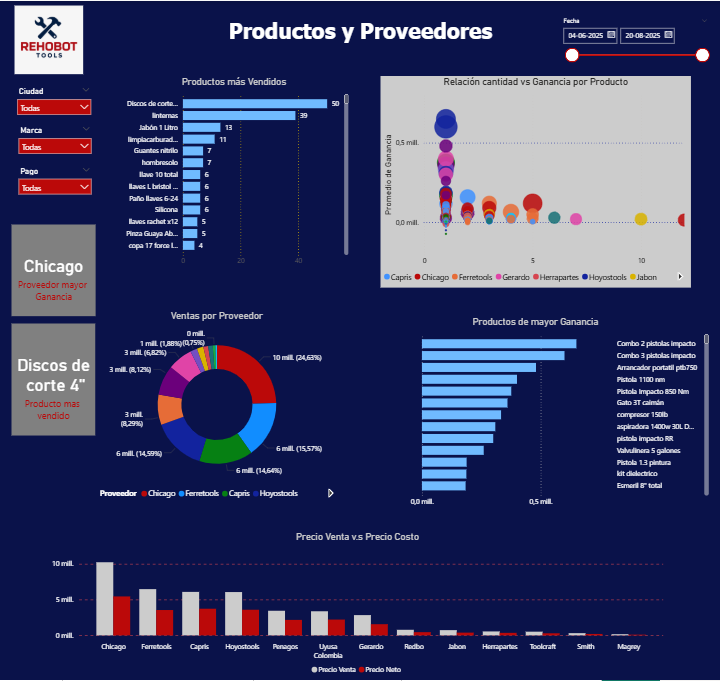

This screenshot's page, from the dashboard's own definition file:
{"tool":"powerbi","page":{"name":"Productos y proveedores","canvas":[1280,1200],"ordinal":1},"visuals":[{"type":"image","box":[23.7,1.7,131.8,131.8],"z":0},{"type":"textbox","box":[378.3,23.3,523.3,76.7],"z":1000},{"type":"slicer","fields":{"Values":["Calendario.Fecha"]},"box":[986.2,23.9,279.9,90.7],"z":2000},{"type":"barChart","title":"Productos más Vendidos","fields":{"Category":["Ventas_Diarias.Producto"],"Y":["Medidas.Total Productos Vendidos"]},"box":[210,133.3,415,345],"z":3000},{"type":"clusteredBarChart","title":"Productos de mayor Ganancia","fields":{"Category":["Ventas_Diarias.Producto"],"Y":["Avg(Ventas_Diarias.Ganancia)"]},"box":[640,556,622,346],"z":4000},{"type":"donutChart","title":"Ventas por Proveedor","fields":{"Y":["Medidas.Suma Venta"],"Category":["Ventas_Diarias.Proveedor"]},"box":[175,545,423.3,343.3],"z":5000},{"type":"clusteredColumnChart","title":"Precio Venta v.s Precio Costo","fields":{"Category":["Ventas_Diarias.Proveedor"],"Y":["Medidas.Suma Venta","Medidas.Suma Neto"]},"box":[90,936,1090,264],"z":6000},{"type":"slicer","fields":{"Values":["Ventas_Diarias.Ciudad"]},"box":[23.7,147,150.4,69.3],"z":7000},{"type":"slicer","fields":{"Values":["Productos.Marca"]},"box":[26.5,214.7,148.5,71.6],"z":8000},{"type":"card","fields":{"Values":["Medidas.Proveedor_MayorGanancia"]},"box":[23.9,395,148.5,161.7],"z":9000},{"type":"slicer","fields":{"Values":["Ventas_Diarias.Pago"]},"box":[26.5,286.3,148.5,68.9],"z":10000},{"type":"scatterChart","title":"Relación cantidad vs Ganancia por Producto","fields":{"X":["CountNonNull(Ventas_Diarias.Cantidad)"],"Category":["Ventas_Diarias.Producto"],"Y":["Avg(Ventas_Diarias.Ganancia)"],"Series":["Ventas_Diarias.Proveedor"],"Size":["Medidas.Total_Ventas"]},"box":[676,132.6,548.8,373.8],"z":11000},{"type":"card","fields":{"Values":["Medidas.Producto mas vendido"]},"box":[24,570,148,198],"z":12000}]}

Visuals, with their boxes in screenshot pixels (x1, y1, x2, y2), scaled from the page's 1280x1200 canvas onto the 720x681 screenshot:
image: l=13, t=1, r=87, b=76
textbox: l=213, t=13, r=507, b=57
slicer - Calendario.Fecha: l=555, t=14, r=712, b=65
"Productos más Vendidos" barChart: l=118, t=76, r=352, b=271
"Productos de mayor Ganancia" clusteredBarChart: l=360, t=316, r=710, b=512
"Ventas por Proveedor" donutChart: l=98, t=309, r=337, b=504
"Precio Venta v.s Precio Costo" clusteredColumnChart: l=51, t=531, r=664, b=680
slicer - Ventas_Diarias.Ciudad: l=13, t=83, r=98, b=123
slicer - Productos.Marca: l=15, t=122, r=98, b=162
card - Medidas.Proveedor_MayorGanancia: l=13, t=224, r=97, b=316
slicer - Ventas_Diarias.Pago: l=15, t=162, r=98, b=202
"Relación cantidad vs Ganancia por Producto" scatterChart: l=380, t=75, r=689, b=287
card - Medidas.Producto mas vendido: l=14, t=323, r=97, b=436
